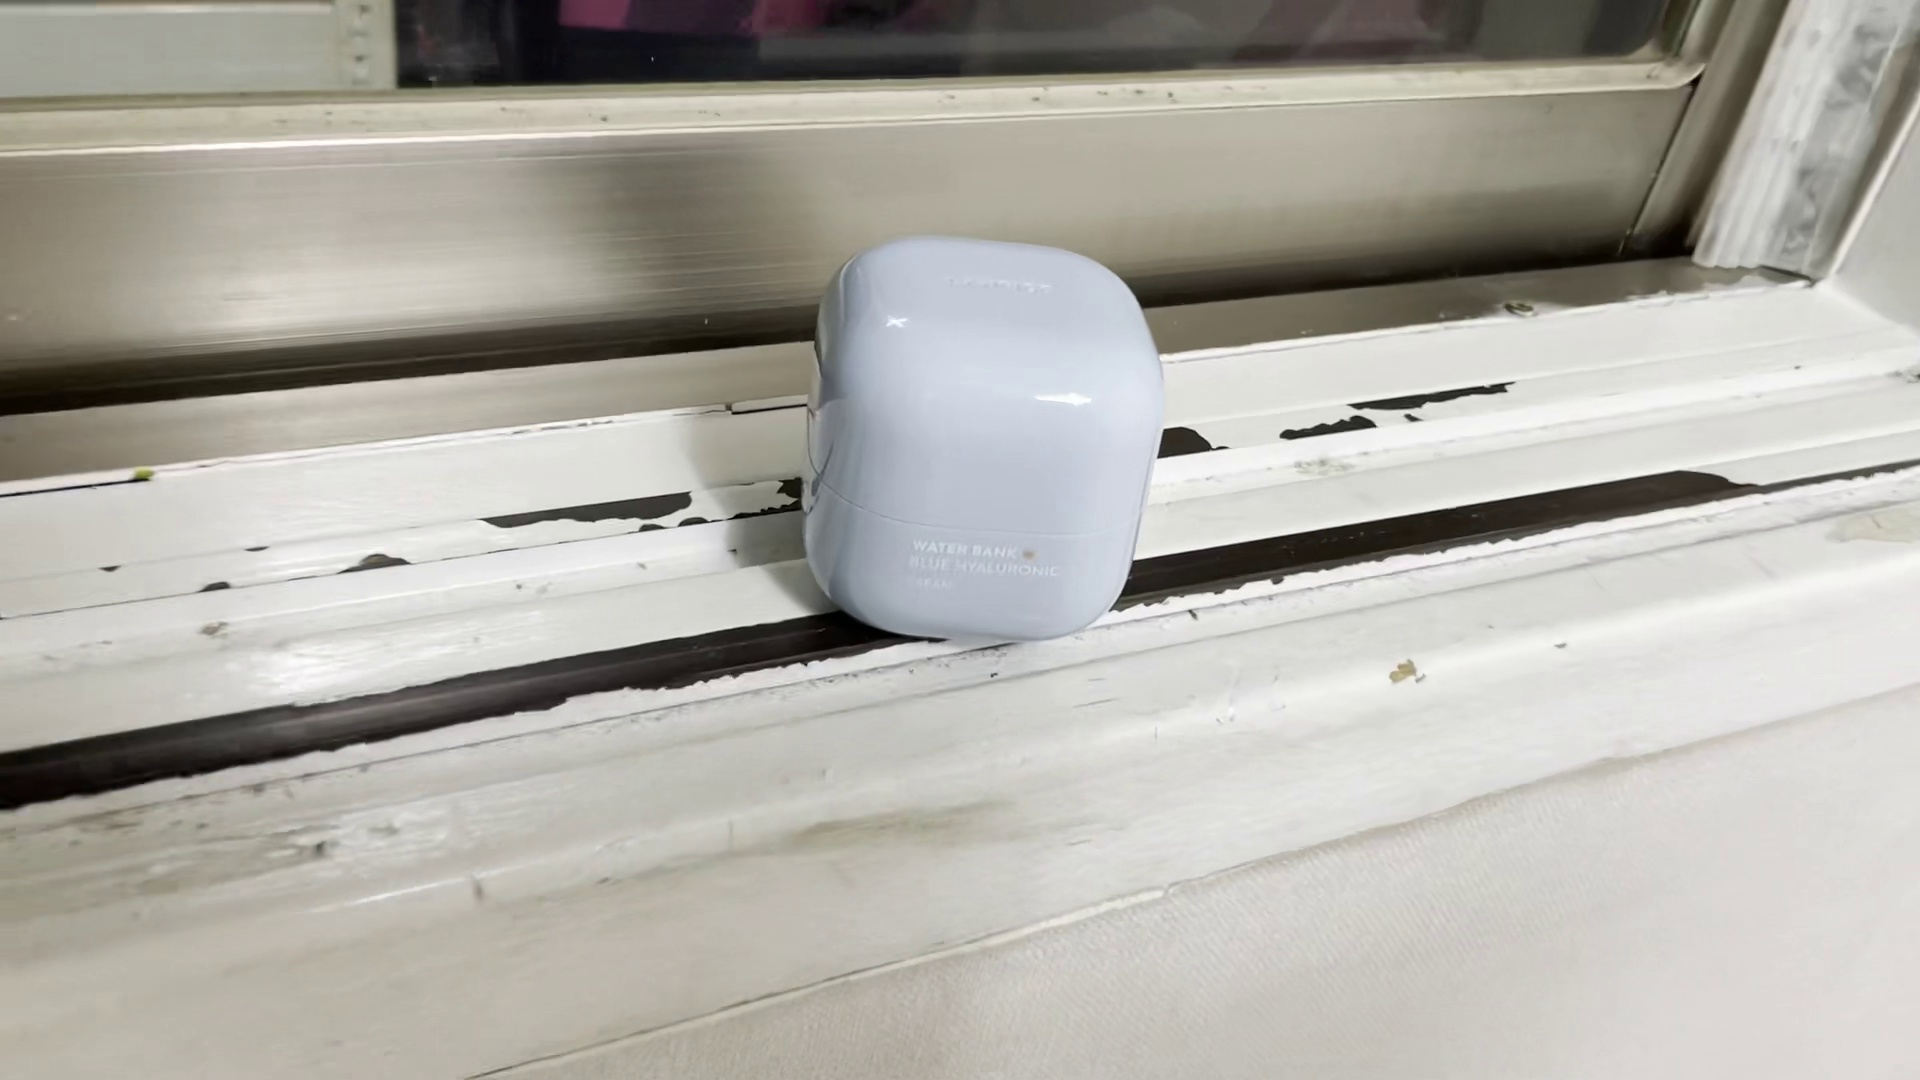cream: (796, 235, 1163, 641)
